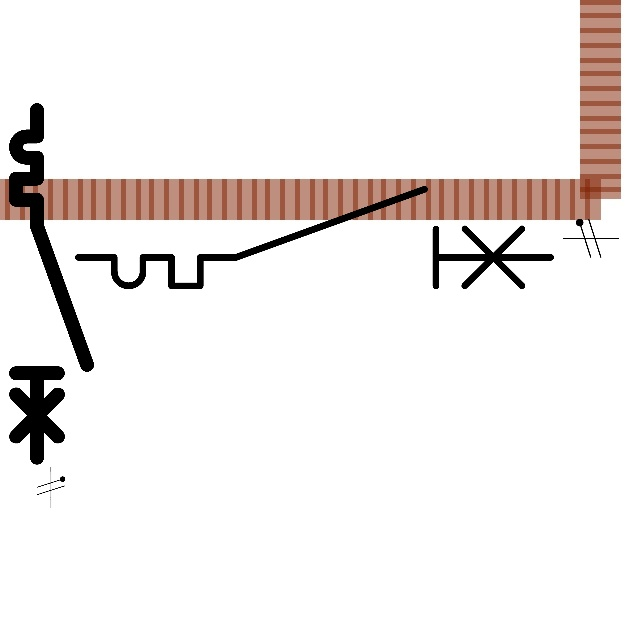interruptor_termomagnetico: (66, 177, 563, 298), (7, 101, 96, 467)
